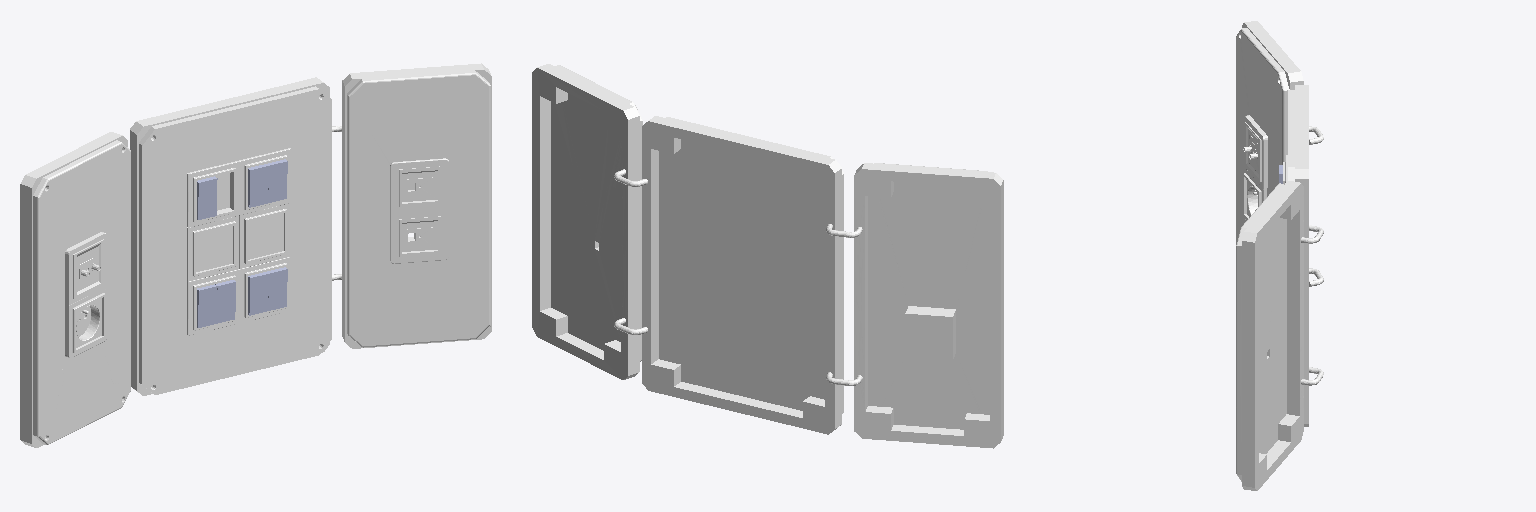
The robot description file, URDF, robot "panel_description":
<?xml version="1.0" encoding="utf-8"?>
<!-- This URDF was automatically created by SolidWorks to URDF Exporter! Originally created by [author] ([email redacted]) 
     Commit Version: 1.6.0-1-g15f4949  Build Version: 1.6.7594.29634
     For more information, please see http://wiki.ros.org/sw_urdf_exporter -->
<robot
  name="panel_description">
  <link name="world" />
  <joint name="robot_to_world" type="fixed">
    <parent link="world" />
    <child link="base_link" />
    <origin xyz="0.0 0.0 0.0" rpy="0.0 0.0 0.0" />
  </joint>
  <link
    name="base_link">
    <inertial>
      <origin
        xyz="0.120445617783178 -0.475294055521823 0.700175639695844"
        rpy="0 0 0" />
      <mass
        value="3.11093437641292" />
      <inertia
        ixx="0.034937849971517"
        ixy="2.85506869834046E-06"
        ixz="-2.60912308613401E-08"
        iyy="0.0469707915915287"
        iyz="-2.87082157479153E-07"
        izz="0.0132131791743923" />
    </inertial>
    <visual>
      <origin
        xyz="0 0 0"
        rpy="0 0 0" />
      <geometry>
        <mesh
          filename="package://panel_description/meshes/base_link.dae" />
      </geometry>
      <material
        name="">
        <color
          rgba="1 1 1 1" />
      </material>
    </visual>
    <collision>
      <origin
        xyz="0 0 0"
        rpy="0 0 0" />
      <geometry>
        <mesh
          filename="package://panel_description/meshes/base_link.dae" />
      </geometry>
    </collision>
  </link>
  <link
    name="button1">
    <inertial>
      <origin
        xyz="-0.014545 1.8088E-06 -0.0049577"
        rpy="0 0 0" />
      <mass
        value="0.016063" />
      <inertia
        ixx="3.8235E-06"
        ixy="3.0387E-11"
        ixz="-1.4334E-13"
        iyy="1.282E-06"
        iyz="1.136E-10"
        izz="4.807E-06" />
    </inertial>
    <visual>
      <origin
        xyz="0 0 0"
        rpy="0 0 0" />
      <geometry>
        <mesh
          filename="package://panel_description/meshes/anahtar1.dae" />
      </geometry>
      <material
        name="">
        <color
          rgba="0.79216 0.81961 0.93333 1" />
      </material>
    </visual>
    <collision>
      <origin
        xyz="0 0 0"
        rpy="0 0 0" />
      <geometry>
        <mesh
          filename="package://panel_description/meshes/anahtar1.dae" />
      </geometry>
    </collision>
  </link>
  <joint
    name="btn1_joint"
    type="revolute">
    <origin
      xyz="0.050549 -0.46007 0.78221"
      rpy="1.5239 0 3.1416" />
    <parent
      link="base_link" />
    <child
      link="button1" />
    <axis
      xyz="1 0 0" />
    <limit
      lower="-0.12"
      upper="0.18"
      effort="0"
      velocity="0" />
    <dynamics
      friction="0.2" />
  </joint>
  <link
    name="button2">
    <inertial>
      <origin
        xyz="-0.014545 1.8088E-06 -0.0049577"
        rpy="0 0 0" />
      <mass
        value="0.016063" />
      <inertia
        ixx="3.8235E-06"
        ixy="3.0387E-11"
        ixz="-1.4334E-13"
        iyy="1.282E-06"
        iyz="1.136E-10"
        izz="4.807E-06" />
    </inertial>
    <visual>
      <origin
        xyz="0 0 0"
        rpy="0 0 0" />
      <geometry>
        <mesh
          filename="package://panel_description/meshes/anahtar2.stl" />
      </geometry>
      <material
        name="">
        <color
          rgba="0.79216 0.81961 0.93333 1" />
      </material>
    </visual>
    <collision>
      <origin
        xyz="0 0 0"
        rpy="0 0 0" />
      <geometry>
        <mesh
          filename="package://panel_description/meshes/anahtar2.stl" />
      </geometry>
    </collision>
  </link>
  <joint
    name="btn2_joint"
    type="revolute">
    <origin
      xyz="0.079639 -0.46007 0.78221"
      rpy="1.5239 0 3.1416" />
    <parent
      link="base_link" />
    <child
      link="button2" />
    <axis
      xyz="1 0 0" />
    <limit
      lower="-0.12"
      upper="0.18"
      effort="0"
      velocity="0" />
    <dynamics
      friction="0.2" />
  </joint>
  <link
    name="button3">
    <inertial>
      <origin
        xyz="-0.014545 1.8088E-06 -0.0049577"
        rpy="0 0 0" />
      <mass
        value="0.016063" />
      <inertia
        ixx="3.8235E-06"
        ixy="3.0387E-11"
        ixz="-1.4334E-13"
        iyy="1.282E-06"
        iyz="1.136E-10"
        izz="4.807E-06" />
    </inertial>
    <visual>
      <origin
        xyz="0 0 0"
        rpy="0 0 0" />
      <geometry>
        <mesh
          filename="package://panel_description/meshes/anahtar3.dae" />
      </geometry>
      <material
        name="">
        <color
          rgba="0.79216 0.81961 0.93333 1" />
      </material>
    </visual>
    <collision>
      <origin
        xyz="0 0 0"
        rpy="0 0 0" />
      <geometry>
        <mesh
          filename="package://panel_description/meshes/anahtar3.dae" />
      </geometry>
    </collision>
  </link>
  <joint
    name="btn3_joint"
    type="revolute">
    <origin
      xyz="0.130549 -0.46007 0.78221"
      rpy="1.5239 0 3.1416" />
    <parent
      link="base_link" />
    <child
      link="button3" />
    <axis
      xyz="1 0 0" />
    <limit
      lower="-0.12"
      upper="0.18"
      effort="0"
      velocity="0" />
    <dynamics
      friction="0.2" />
  </joint>
  <link
    name="button4">
    <inertial>
      <origin
        xyz="-0.014545 1.8088E-06 -0.0049577"
        rpy="0 0 0" />
      <mass
        value="0.016063" />
      <inertia
        ixx="3.8235E-06"
        ixy="3.0387E-11"
        ixz="-1.4334E-13"
        iyy="1.282E-06"
        iyz="1.136E-10"
        izz="4.807E-06" />
    </inertial>
    <visual>
      <origin
        xyz="0 0 0"
        rpy="0 0 0" />
      <geometry>
        <mesh
          filename="package://panel_description/meshes/anahtar4.dae" />
      </geometry>
      <material
        name="">
        <color
          rgba="0.79216 0.81961 0.93333 1" />
      </material>
    </visual>
    <collision>
      <origin
        xyz="0 0 0"
        rpy="0 0 0" />
      <geometry>
        <mesh
          filename="package://panel_description/meshes/anahtar4.dae" />
      </geometry>
    </collision>
  </link>
  <joint
    name="btn4_joint"
    type="revolute">
    <origin
      xyz="0.159639 -0.46007 0.78221"
      rpy="1.5239 0 3.1416" />
    <parent
      link="base_link" />
    <child
      link="button4" />
    <axis
      xyz="1 0 0" />
    <limit
      lower="-0.12"
      upper="0.18"
      effort="0"
      velocity="0" />
    <dynamics
      friction="0.2" />
  </joint>
  <link
    name="button5">
    <inertial>
      <origin
        xyz="-0.014545 1.8088E-06 -0.0049577"
        rpy="0 0 0" />
      <mass
        value="0.016063" />
      <inertia
        ixx="3.8235E-06"
        ixy="3.0387E-11"
        ixz="-1.4334E-13"
        iyy="1.282E-06"
        iyz="1.136E-10"
        izz="4.807E-06" />
    </inertial>
    <visual>
      <origin
        xyz="0 0 0"
        rpy="0 0 0" />
      <geometry>
        <mesh
          filename="package://panel_description/meshes/anahtar5.dae" />
      </geometry>
      <material
        name="">
        <color
          rgba="0.79216 0.81961 0.93333 1" />
      </material>
    </visual>
    <collision>
      <origin
        xyz="0 0 0"
        rpy="0 0 0" />
      <geometry>
        <mesh
          filename="package://panel_description/meshes/anahtar5.dae" />
      </geometry>
    </collision>
  </link>
  <joint
    name="btn5_joint"
    type="revolute">
    <origin
      xyz="0.050549 -0.46007 0.62221"
      rpy="1.5239 0 3.1416" />
    <parent
      link="base_link" />
    <child
      link="button5" />
    <axis
      xyz="1 0 0" />
    <limit
      lower="-0.12"
      upper="0.18"
      effort="0"
      velocity="0" />
    <dynamics
      friction="0.2" />
  </joint>
  <link
    name="button6">
    <inertial>
      <origin
        xyz="-0.014545 1.8088E-06 -0.0049577"
        rpy="0 0 0" />
      <mass
        value="0.016063" />
      <inertia
        ixx="3.8235E-06"
        ixy="3.0387E-11"
        ixz="-1.4334E-13"
        iyy="1.282E-06"
        iyz="1.136E-10"
        izz="4.807E-06" />
    </inertial>
    <visual>
      <origin
        xyz="0 0 0"
        rpy="0 0 0" />
      <geometry>
        <mesh
          filename="package://panel_description/meshes/anahtar6.dae" />
      </geometry>
      <material
        name="">
        <color
          rgba="0.79216 0.81961 0.93333 1" />
      </material>
    </visual>
    <collision>
      <origin
        xyz="0 0 0"
        rpy="0 0 0" />
      <geometry>
        <mesh
          filename="package://panel_description/meshes/anahtar6.dae" />
      </geometry>
    </collision>
  </link>
  <joint
    name="btn6_joint"
    type="revolute">
    <origin
      xyz="0.079639 -0.46007 0.62221"
      rpy="1.5239 0 3.1416" />
    <parent
      link="base_link" />
    <child
      link="button6" />
    <axis
      xyz="1 0 0" />
    <limit
      lower="-0.12"
      upper="0.18"
      effort="0"
      velocity="0" />
    <dynamics
      friction="0.2" />
  </joint>
  <link
    name="button7">
    <inertial>
      <origin
        xyz="-0.014545 1.8088E-06 -0.0049577"
        rpy="0 0 0" />
      <mass
        value="0.016063" />
      <inertia
        ixx="3.8235E-06"
        ixy="3.0387E-11"
        ixz="-1.4334E-13"
        iyy="1.282E-06"
        iyz="1.136E-10"
        izz="4.807E-06" />
    </inertial>
    <visual>
      <origin
        xyz="0 0 0"
        rpy="0 0 0" />
      <geometry>
        <mesh
          filename="package://panel_description/meshes/anahtar7.dae" />
      </geometry>
      <material
        name="">
        <color
          rgba="0.79216 0.81961 0.93333 1" />
      </material>
    </visual>
    <collision>
      <origin
        xyz="0 0 0"
        rpy="0 0 0" />
      <geometry>
        <mesh
          filename="package://panel_description/meshes/anahtar7.dae" />
      </geometry>
    </collision>
  </link>
  <joint
    name="btn7_joint"
    type="revolute">
    <origin
      xyz="0.130549 -0.46007 0.62221"
      rpy="1.5239 0 3.1416" />
    <parent
      link="base_link" />
    <child
      link="button7" />
    <axis
      xyz="1 0 0" />
    <limit
      lower="-0.12"
      upper="0.18"
      effort="0"
      velocity="0" />
    <dynamics
      friction="0.2" />
  </joint>
  <link
    name="button8">
    <inertial>
      <origin
        xyz="-0.014545 1.8088E-06 -0.0049577"
        rpy="0 0 0" />
      <mass
        value="0.016063" />
      <inertia
        ixx="3.8235E-06"
        ixy="3.0387E-11"
        ixz="-1.4334E-13"
        iyy="1.282E-06"
        iyz="1.136E-10"
        izz="4.807E-06" />
    </inertial>
    <visual>
      <origin
        xyz="0 0 0"
        rpy="0 0 0" />
      <geometry>
        <mesh
          filename="package://panel_description/meshes/anahtar8.dae" />
      </geometry>
      <material
        name="">
        <color
          rgba="0.79216 0.81961 0.93333 1" />
      </material>
    </visual>
    <collision>
      <origin
        xyz="0 0 0"
        rpy="0 0 0" />
      <geometry>
        <mesh
          filename="package://panel_description/meshes/anahtar8.dae" />
      </geometry>
    </collision>
  </link>
  <joint
    name="btn8_joint"
    type="revolute">
    <origin
      xyz="0.159639 -0.46007 0.62221"
      rpy="1.5239 0 3.1416" />
    <parent
      link="base_link" />
    <child
      link="button8" />
    <axis
      xyz="1 0 0" />
    <limit
      lower="-0.12"
      upper="0.18"
      effort="0"
      velocity="0" />
    <dynamics
      friction="0.2" />
  </joint>
  <!-- <link
    name="anahtar2">
    <inertial>
      <origin
        xyz="0.12045 -0.47529 0.70018"
        rpy="0 0 0" />
      <mass
        value="3.1109" />
      <inertia
        ixx="0.034938"
        ixy="2.8551E-06"
        ixz="-2.6091E-08"
        iyy="0.046971"
        iyz="-2.8708E-07"
        izz="0.013213" />
    </inertial>
    <visual>
      <origin
        xyz="0 0 0"
        rpy="0 0 0" />
      <geometry>
        <mesh
          filename="package://panel_description/meshes/anahtar2.stl" />
      </geometry>
      <material
        name="">
        <color
          rgba="1 1 1 1" />
      </material>
    </visual>
    <collision>
      <origin
        xyz="0 0 0"
        rpy="0 0 0" />
      <geometry>
        <mesh
          filename="package://panel_description/meshes/anahtar2.stl" />
      </geometry>
    </collision>
  </link>
  <joint
    name="anahtar2"
    type="revolute">
    <origin
      xyz="0.079641 -0.46007 0.78221"
      rpy="1.5239 0 3.1416" />
    <parent
      link="base_link" />
    <child
      link="anahtar2" />
    <axis
      xyz="1 0 0" />
    <limit
      lower="-0.12"
      upper="0.18"
      effort="0"
      velocity="0" />
    <dynamics
      friction="0.2" />
  </joint> -->
</robot>

--- Facts derived from the render (not from the file) ---
Views: 3 orthographic renders of the robot side by side, from view 1: azimuth 30°, elevation 25°; view 2: azimuth 150°, elevation 25°; view 3: azimuth 270°, elevation 25°.
Model panel_description with 10 links and 9 joints (8 revolute, 1 fixed), rooted at world, posed every joint at zero.
Visible links, largest first — view 1: base_link, button3, button7, button5, button1, button8, button6, button4; view 2: base_link; view 3: base_link.
Link boxes in pixels (left/top/right/bottom): base_link: left=20, top=63, right=491, bottom=447; button3: left=248, top=164, right=268, bottom=207; button7: left=248, top=272, right=268, bottom=315; button5: left=197, top=284, right=217, bottom=327; button1: left=197, top=176, right=217, bottom=219; button8: left=267, top=267, right=287, bottom=310; button6: left=215, top=280, right=235, bottom=323; button4: left=268, top=159, right=287, bottom=202; base_link: left=532, top=64, right=1003, bottom=448; base_link: left=1236, top=21, right=1323, bottom=490.
Bounding box of the posed robot: 0.7271 × 0.1235 × 0.4 m (x, y, z).
Meshes: 9 distinct files referenced, 8 mesh visuals loaded (8 Collada DAE); not drawn: 1 (reference not matched to a file when rendering).
